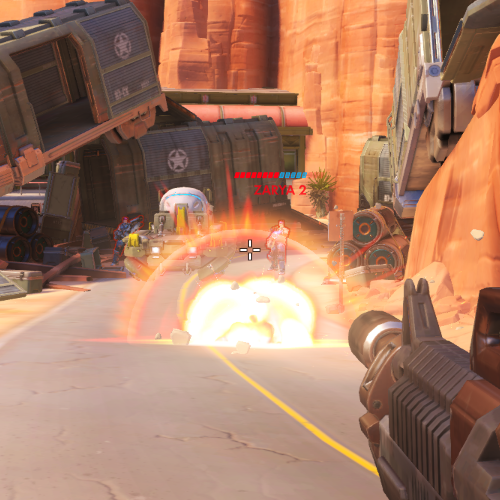hpbar: (233, 171, 326, 179)
